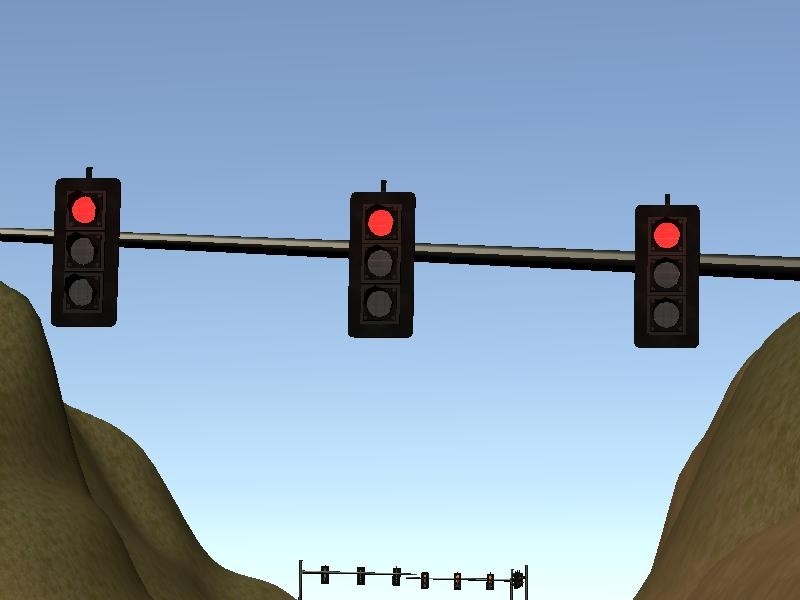RED: (51, 180, 121, 329), (348, 193, 414, 338), (633, 206, 700, 347)
